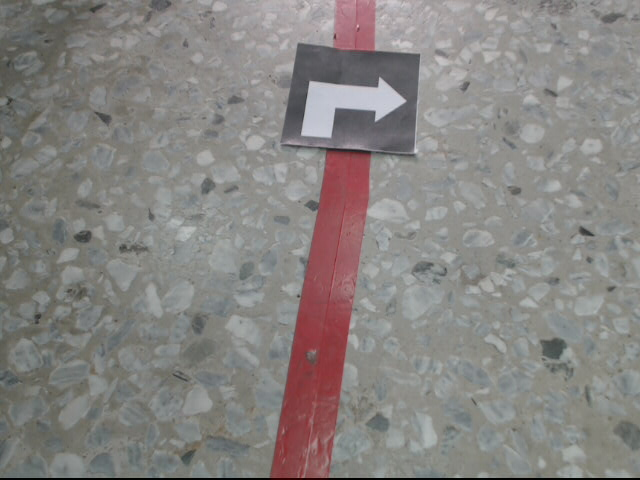right: (279, 39, 423, 156)
